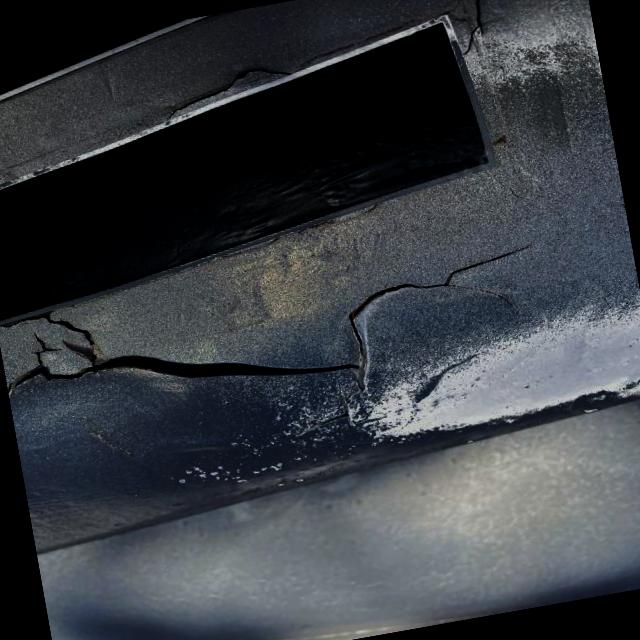crack: (22, 275, 356, 426), (340, 241, 544, 342), (339, 358, 413, 423)
